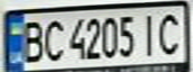0: (100, 12, 121, 60)
2: (84, 14, 103, 61)
4: (66, 15, 87, 61)
5: (118, 11, 139, 58)
B: (15, 17, 48, 64)
C: (154, 9, 187, 56), (39, 16, 66, 63)
I: (136, 10, 160, 57)
